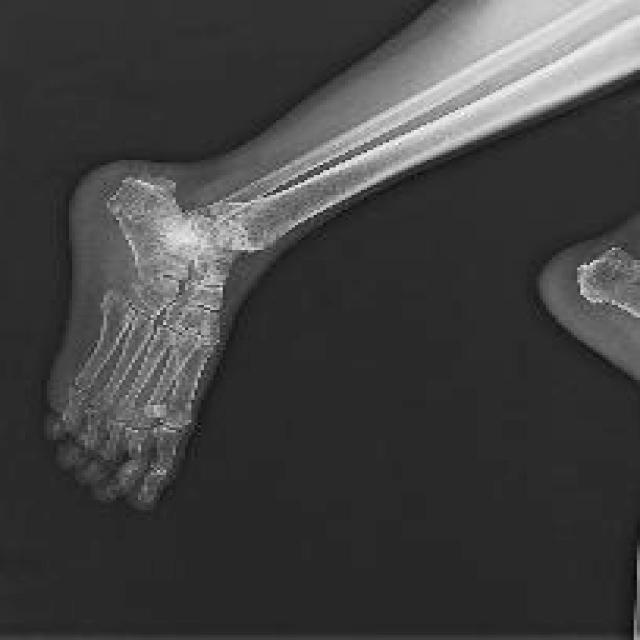normal: (52, 0, 638, 506)
